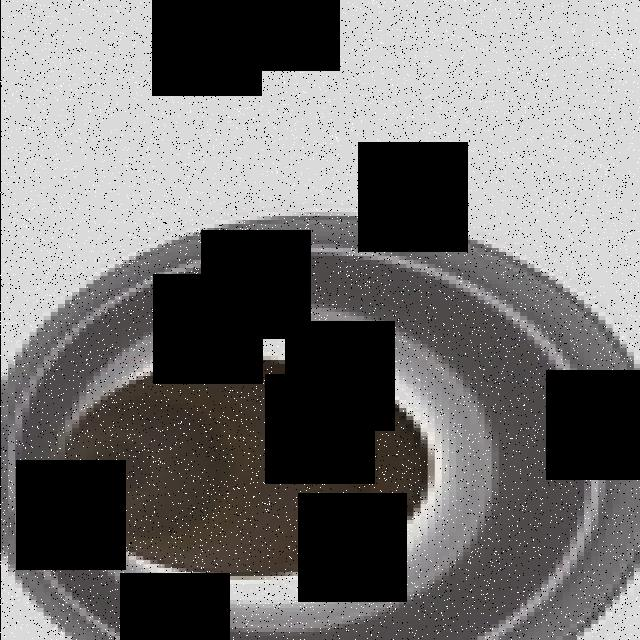Saturn: (0, 212, 640, 640)
